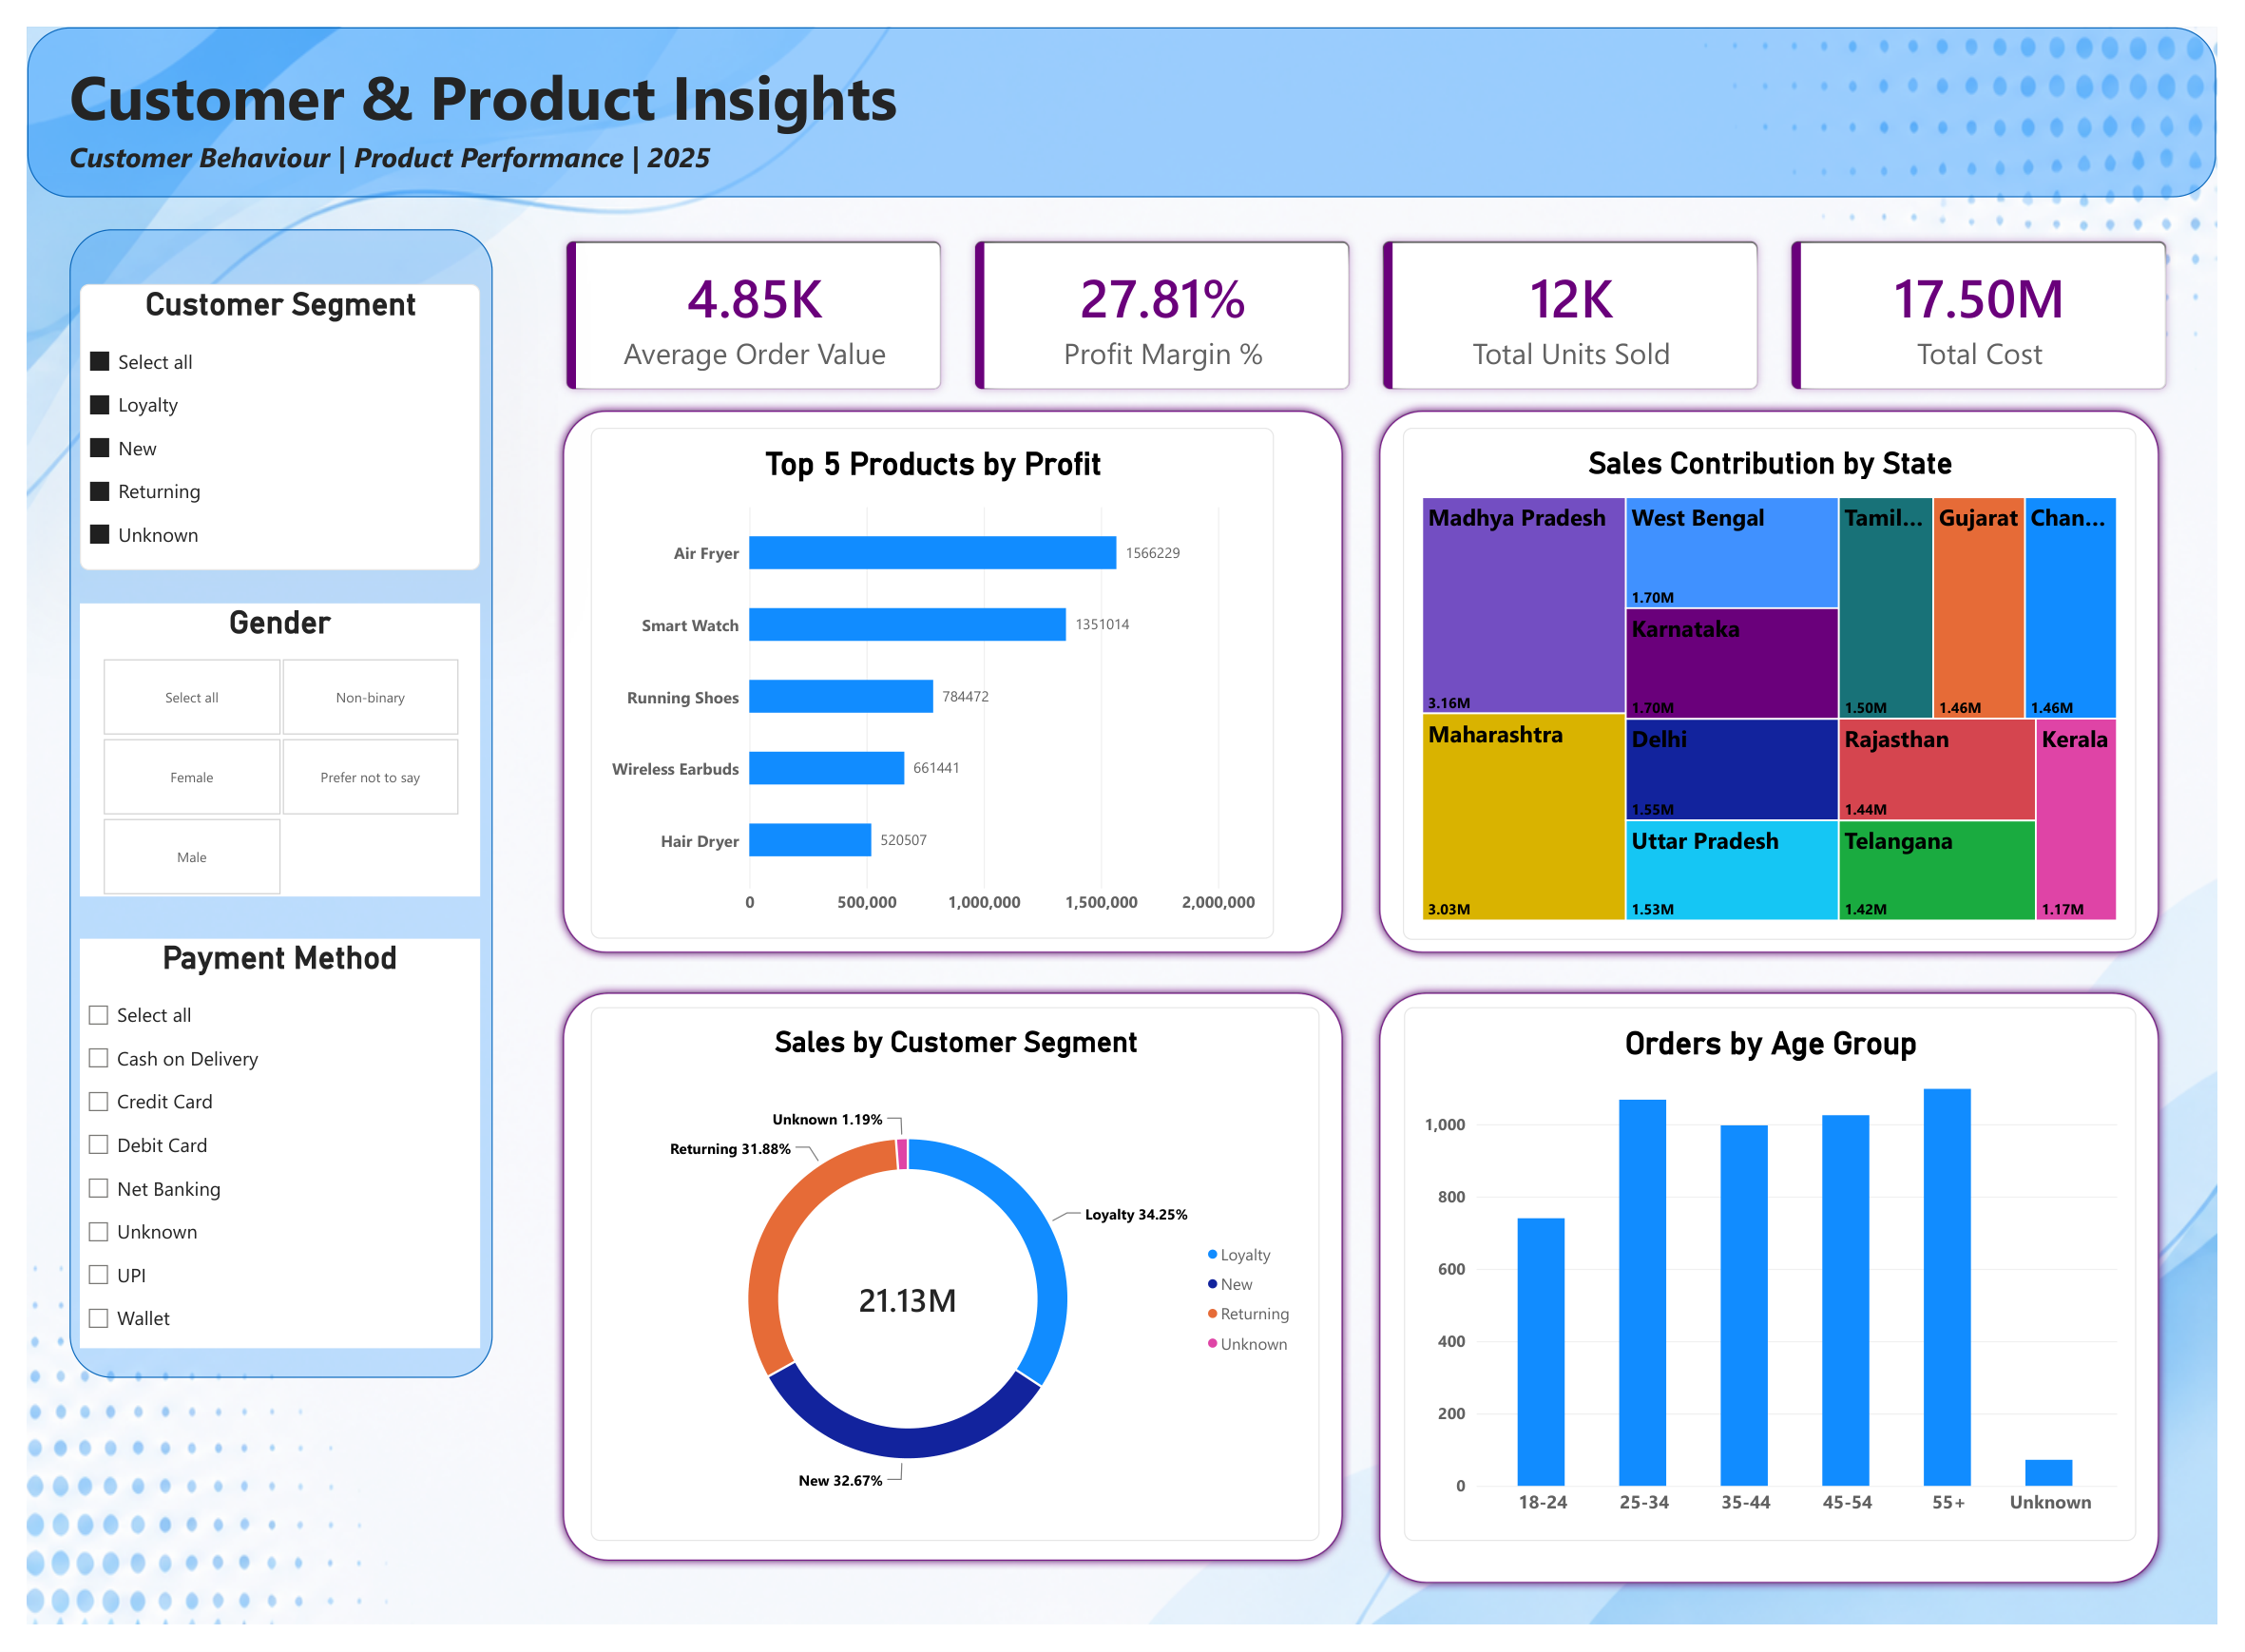

Layout of this report page (visuals, bound fields, positions):
{"tool":"powerbi","page":{"name":"Customer & Product","canvas":[1920,1400],"ordinal":1},"visuals":[{"type":"shape","box":[0,0,1919.2,149.5],"z":0},{"type":"textbox","box":[37.1,22.8,958.7,94.2],"z":1000},{"type":"textbox","box":[37.1,97,921.6,51.4],"z":2000},{"type":"shape","box":[37.1,176.9,370.9,1007.2],"z":3000},{"type":"cardVisual","fields":{"Data":["retail_sales_cleaned.Average Order Value","retail_sales_cleaned.Profit Margin %","retail_sales_cleaned.Total Units Sold","retail_sales_cleaned.Total Cost"]},"box":[462.2,176.9,1423.8,151.2],"z":4000},{"type":"shape","box":[462.2,328.1,699.1,490.8],"z":5000},{"type":"clusteredBarChart","title":"Top 5 Products by Profit","fields":{"Category":["retail_sales_cleaned.product_name"],"Y":["retail_sales_cleaned.Total Profit"]},"box":[493.6,351,599.2,448],"z":6000},{"type":"shape","box":[462.2,838.9,699.1,513.6],"z":7000},{"type":"shape","box":[1178.4,838.9,699.1,533.6],"z":8000},{"type":"donutChart","title":"Sales by Customer Segment","fields":{"Category":["retail_sales_cleaned.customer_segment"],"Y":["retail_sales_cleaned.Net Sales"]},"box":[493.6,858.8,639.1,467.9],"z":9000},{"type":"clusteredColumnChart","title":"Orders by Age Group","fields":{"Category":["retail_sales_cleaned.age_group"],"Y":["retail_sales_cleaned.Total Orders"]},"box":[1207,858.8,642,467.9],"z":10000},{"type":"shape","box":[1178.4,328.1,699.1,490.8],"z":11000},{"type":"treemap","title":"Sales Contribution by State","fields":{"Group":["retail_sales_cleaned.state"],"Values":["retail_sales_cleaned.Net Sales"]},"box":[1205.7,351.4,642.9,448.6],"z":12000},{"type":"slicer","title":"Customer Segment ","fields":{"Values":["retail_sales_cleaned.customer_segment"]},"box":[45.7,225.4,351.5,250.6],"z":12001},{"type":"slicer","title":"Gender","fields":{"Values":["retail_sales_cleaned.gender"]},"box":[45.7,505,351,256.8],"z":12003},{"type":"slicer","title":"Payment Method","fields":{"Values":["retail_sales_cleaned.payment_method"]},"box":[45.7,798.9,351,359.5],"z":12004}]}

Visuals, with their boxes in screenshot pixels (x1, y1, x2, y2), scaled from the page's 1920x1400 canvas onto the 2245x1652 screenshot:
shape: (x1=0, y1=0, x2=2244, y2=177)
textbox: (x1=44, y1=27, x2=1164, y2=138)
textbox: (x1=44, y1=114, x2=1121, y2=175)
shape: (x1=44, y1=209, x2=477, y2=1397)
cardVisual - retail_sales_cleaned.Average Order Value x retail_sales_cleaned.Profit Margin %: (x1=541, y1=209, x2=2205, y2=387)
shape: (x1=541, y1=387, x2=1358, y2=967)
"Top 5 Products by Profit" clusteredBarChart: (x1=577, y1=414, x2=1277, y2=943)
shape: (x1=541, y1=989, x2=1358, y2=1596)
shape: (x1=1378, y1=989, x2=2196, y2=1620)
"Sales by Customer Segment" donutChart: (x1=577, y1=1013, x2=1324, y2=1566)
"Orders by Age Group" clusteredColumnChart: (x1=1411, y1=1013, x2=2162, y2=1566)
shape: (x1=1378, y1=387, x2=2196, y2=967)
"Sales Contribution by State" treemap: (x1=1410, y1=414, x2=2161, y2=944)
"Customer Segment " slicer: (x1=53, y1=266, x2=465, y2=562)
"Gender" slicer: (x1=53, y1=596, x2=464, y2=899)
"Payment Method" slicer: (x1=53, y1=943, x2=464, y2=1367)
